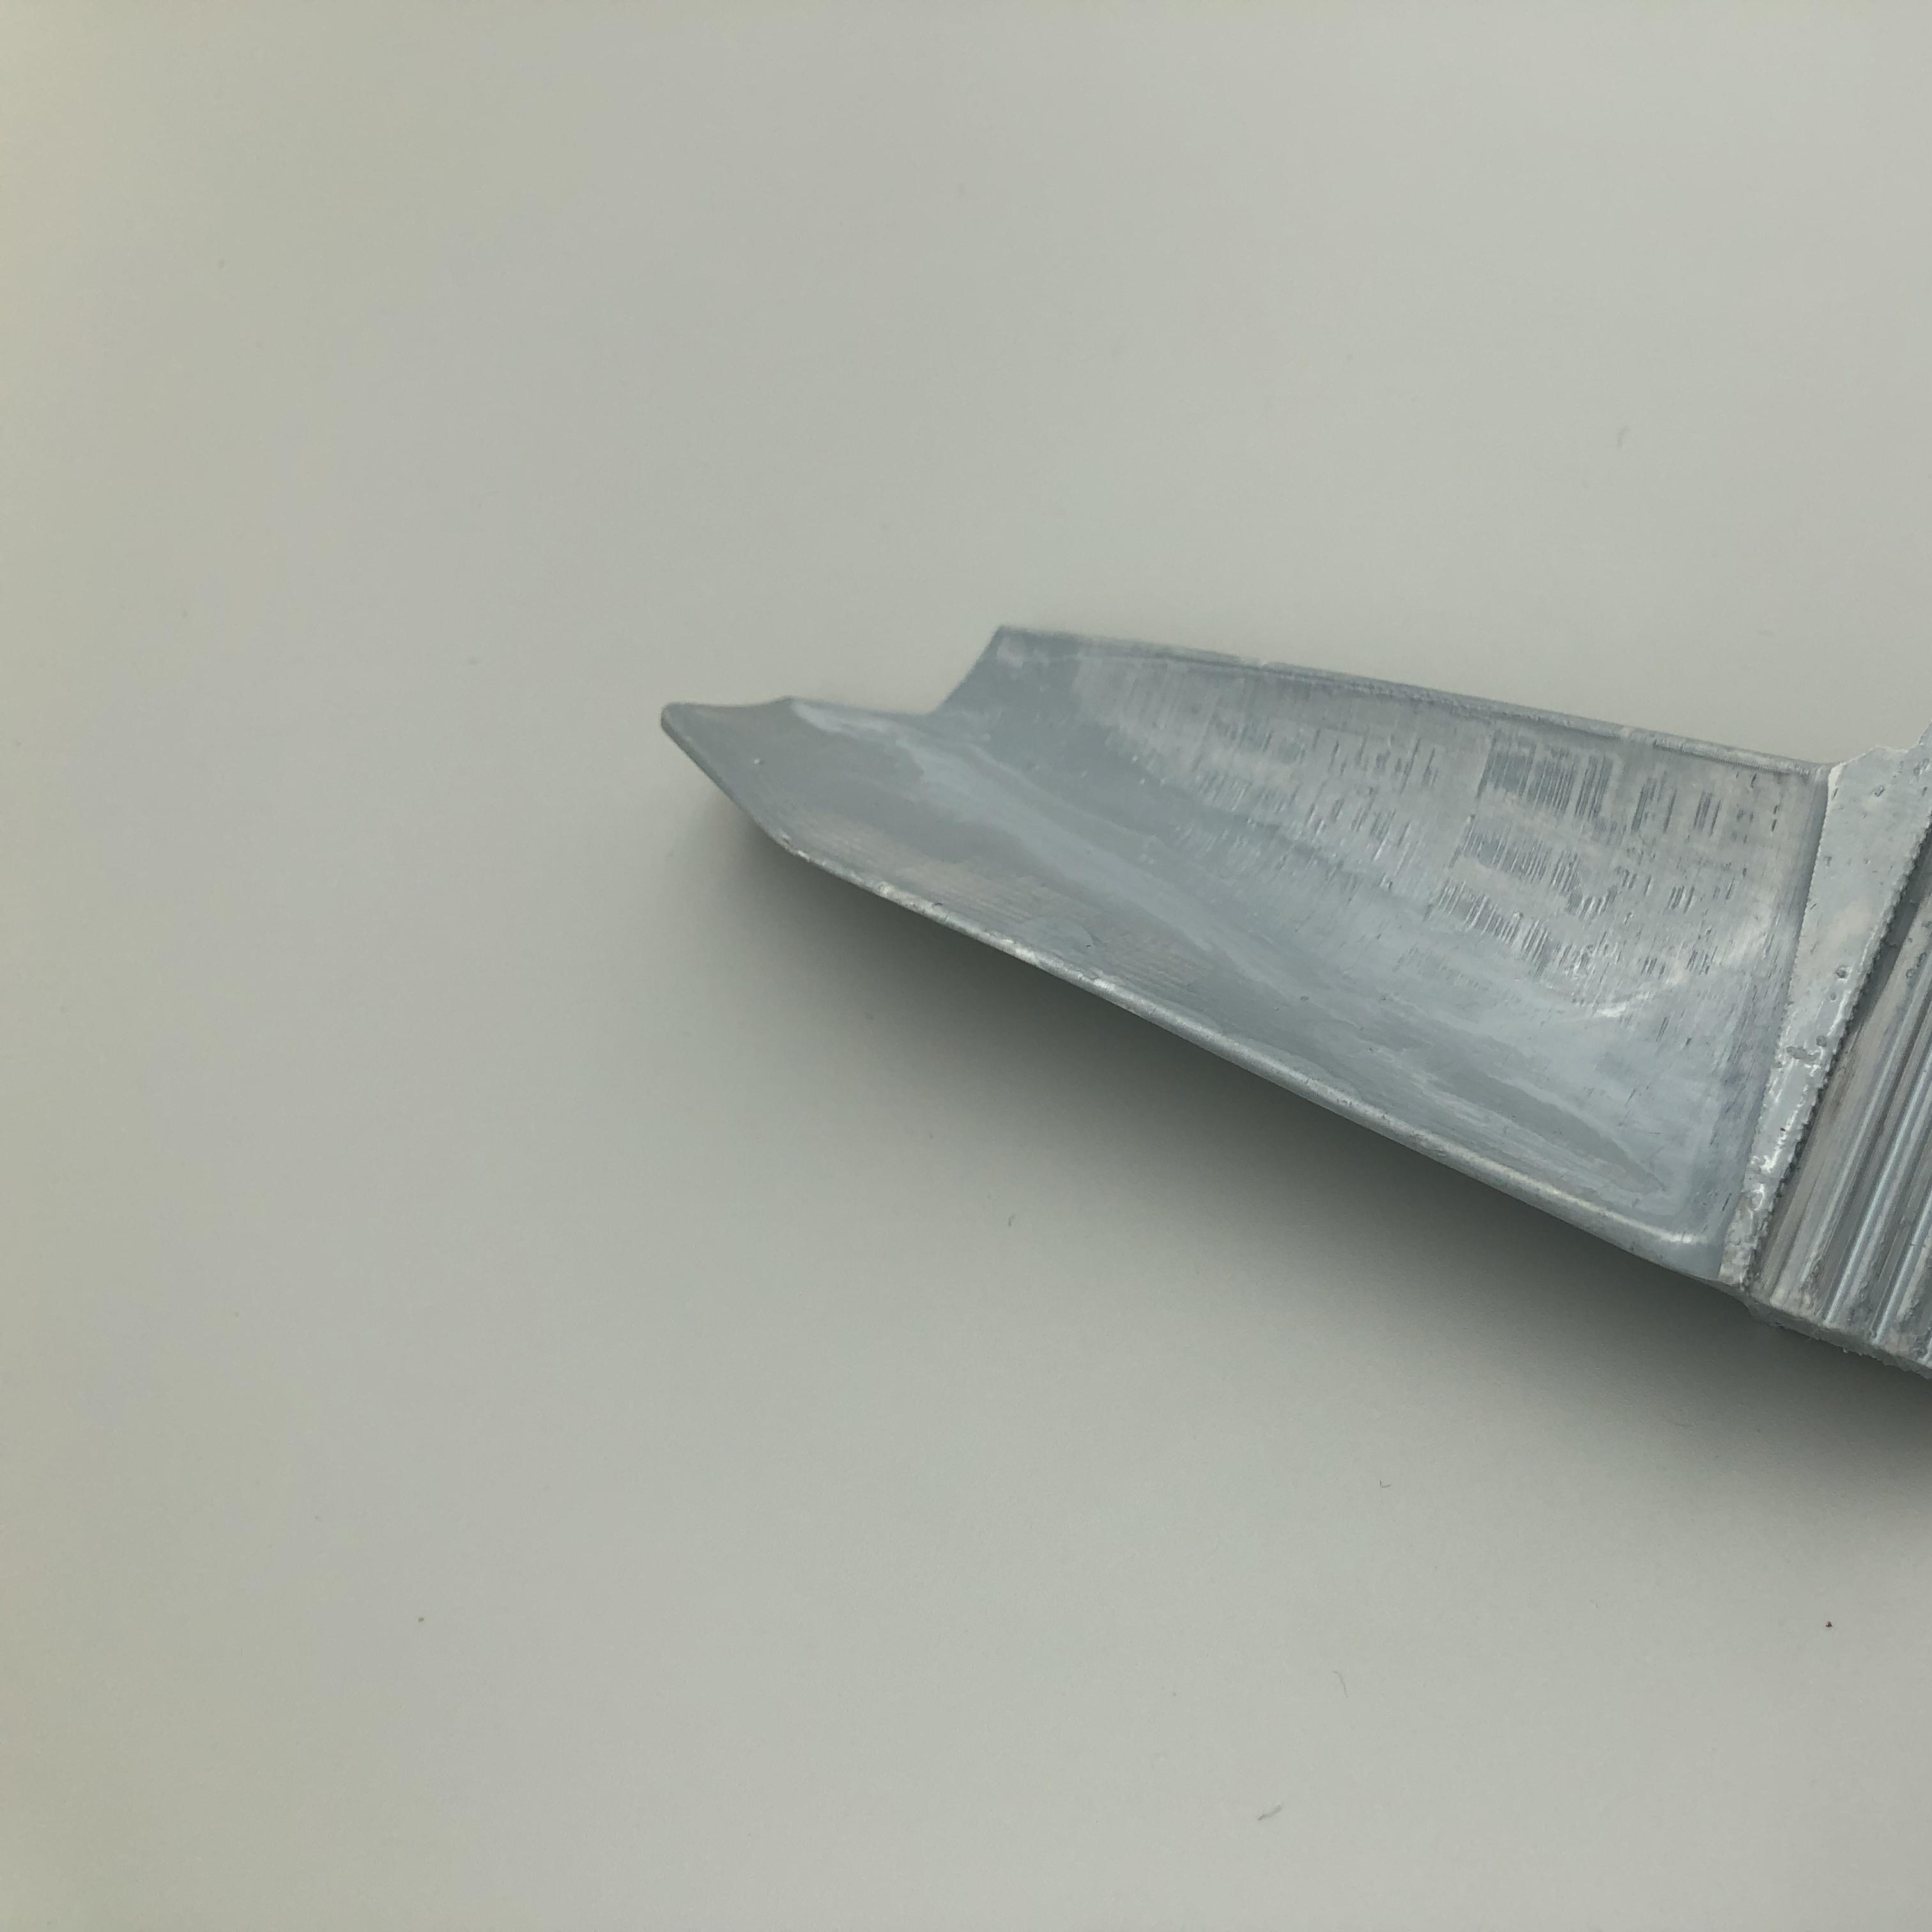fracture: (683, 619, 1044, 732)
